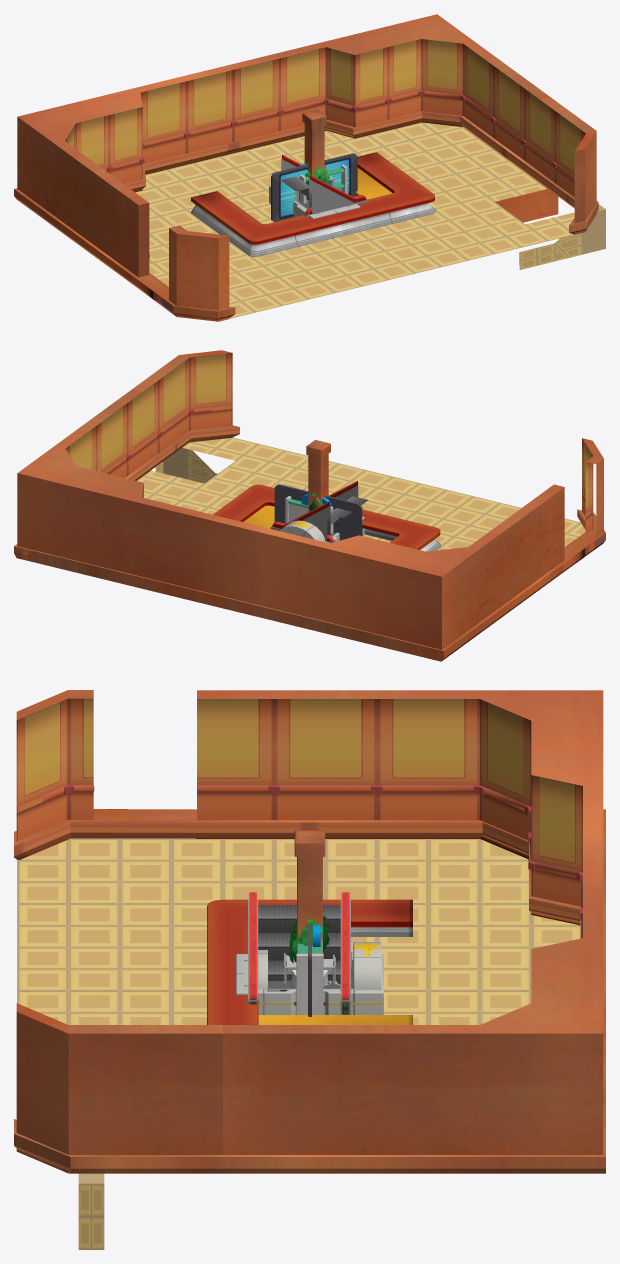
3 views of the same model, one above another, from view 1: azimuth 30°, elevation 25°; view 2: azimuth 150°, elevation 25°; view 3: azimuth 270°, elevation 25° (orthographic). The views are drawn at different scales.
Visible parts, largest first — view 1: SM_RO_005_Wall_01_1, SM_RO_005_Floor_01_0, SM_RO_005_Wall_01_0, SM_RO_005_Counter_01_0, SM_RO_005_Beam_01_1, SM_RO_005_Beam_01_0, SM_RO_005_Floor_01_1, SM_RO_005_Escalator_05, SM_RO_005_Wall_01_2, SM_RO_005_Machine_04_1_group1, SM_C_001_ComPillar_01_03_1, group1_SM_RO_005_Machine_04_0 (+2 smaller); view 2: SM_RO_005_Wall_01_0, SM_RO_005_Floor_01_0, SM_RO_005_Wall_01_1, SM_RO_005_Beam_01_0, SM_RO_005_Counter_01_0, SM_RO_005_Beam_01_1, SM_RO_005_Machine_04_1_group1, SM_RO_005_Escalator_05, SM_RO_005_Floor_01_1, SM_C_001_ComPillar_01_03_1, SM_RO_005_Machine_01_0, SM_C_001_Bookshelf_01; view 3: SM_RO_005_Wall_01_0, SM_RO_005_Floor_01_0, SM_RO_005_Wall_01_1, SM_RO_005_Beam_01_0, SM_RO_005_Beam_01_1, SM_RO_005_Counter_01_0, SM_RO_005_Escalator_05, SM_RO_005_Machine_01_0, SM_C_001_ComPillar_01_03_1, SM_RO_005_Floor_01_1, SM_C_001_Bookshelf_01.
Boxes of the visible parts, x1,y1,x2,y2 form: SM_RO_005_Wall_01_1: [65, 39, 585, 196]; SM_RO_005_Floor_01_0: [135, 122, 574, 318]; SM_RO_005_Wall_01_0: [17, 14, 596, 321]; SM_RO_005_Counter_01_0: [191, 152, 435, 256]; SM_RO_005_Beam_01_1: [124, 112, 574, 315]; SM_RO_005_Beam_01_0: [14, 111, 598, 320]; SM_RO_005_Floor_01_1: [519, 204, 605, 269]; SM_RO_005_Escalator_05: [271, 154, 368, 213]; SM_RO_005_Wall_01_2: [495, 189, 558, 222]; SM_RO_005_Machine_04_1_group1: [271, 153, 357, 222]; SM_C_001_ComPillar_01_03_1: [302, 114, 326, 175]; group1_SM_RO_005_Machine_04_0: [280, 159, 349, 216]; SM_RO_005_Wall_01_0: [17, 350, 603, 649]; SM_RO_005_Floor_01_0: [137, 437, 585, 550]; SM_RO_005_Wall_01_1: [65, 353, 593, 534]; SM_RO_005_Beam_01_0: [14, 425, 605, 661]; SM_RO_005_Counter_01_0: [213, 484, 441, 551]; SM_RO_005_Beam_01_1: [14, 427, 605, 573]; SM_RO_005_Machine_04_1_group1: [274, 484, 362, 540]; SM_RO_005_Escalator_05: [270, 481, 368, 540]; SM_RO_005_Floor_01_1: [155, 448, 217, 483]; SM_C_001_ComPillar_01_03_1: [306, 444, 330, 511]; SM_RO_005_Machine_01_0: [280, 516, 364, 543]; SM_C_001_Bookshelf_01: [285, 496, 333, 533]; SM_RO_005_Wall_01_0: [16, 690, 603, 1173]; SM_RO_005_Floor_01_0: [17, 839, 580, 1024]; SM_RO_005_Wall_01_1: [16, 698, 582, 938]; SM_RO_005_Beam_01_0: [14, 809, 605, 1173]; SM_RO_005_Beam_01_1: [14, 822, 580, 923]; SM_RO_005_Counter_01_0: [207, 899, 412, 1024]; SM_RO_005_Escalator_05: [248, 892, 350, 1014]; SM_RO_005_Machine_01_0: [236, 942, 383, 1014]; SM_C_001_ComPillar_01_03_1: [294, 843, 325, 953]; SM_RO_005_Floor_01_1: [78, 1173, 104, 1249]; SM_C_001_Bookshelf_01: [296, 921, 323, 1014].
Bounding box in the file's own units: 16.37 × 5.41 × 11.51.
Materials: 23 (23 with a texture image).
